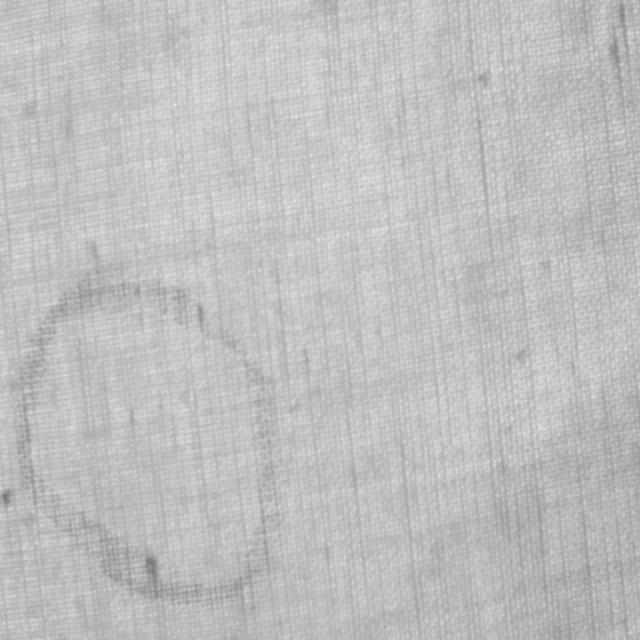oil spot: (9, 277, 285, 605)
